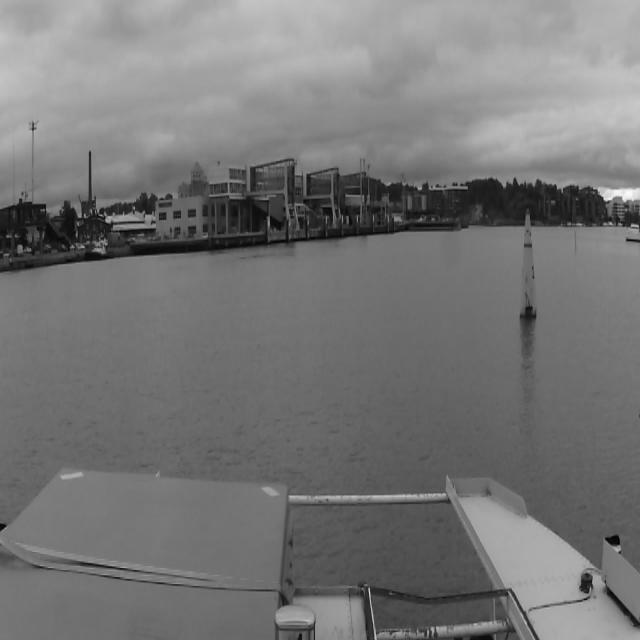buoy: (522, 215, 538, 317)
ship: (86, 237, 108, 260)
